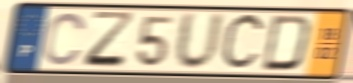5: (136, 14, 177, 68)
C: (218, 10, 268, 75), (41, 11, 89, 68)
D: (259, 14, 314, 74)
U: (173, 10, 227, 73)
Z: (81, 10, 138, 71)
